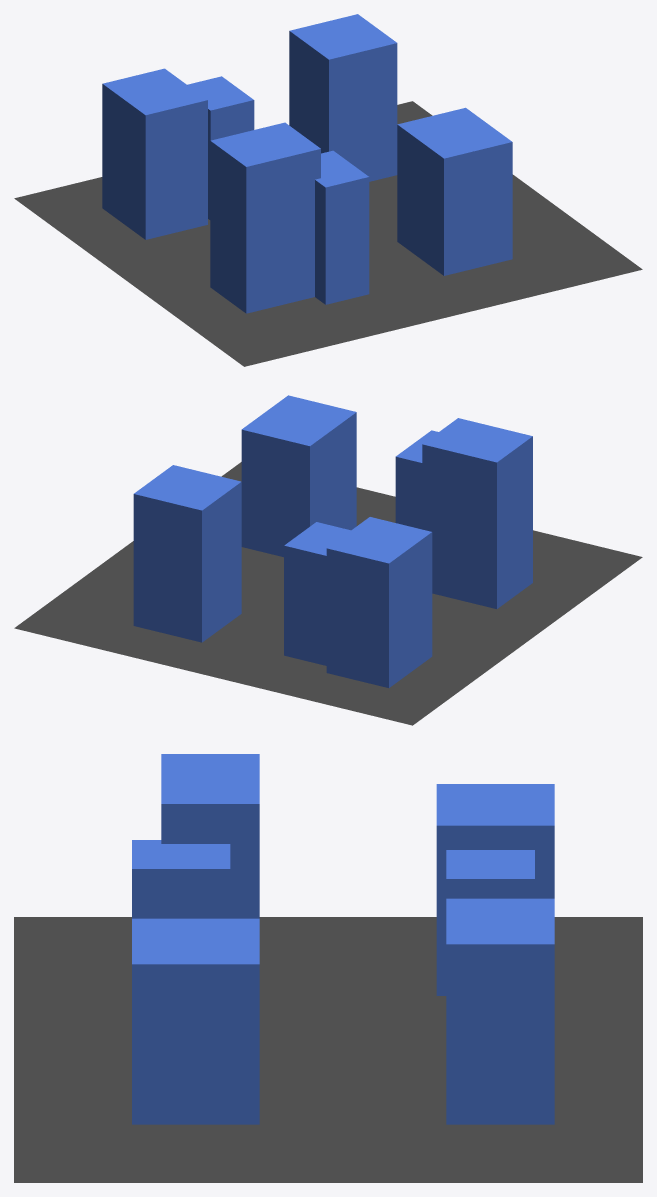
Rendered from native_baseline.glb.
3 views of the same model, one above another, from view 1: azimuth 30°, elevation 25°; view 2: azimuth 150°, elevation 25°; view 3: azimuth 270°, elevation 25° (orthographic). The views are drawn at different scales.
Bounding box in the file's own units: 64 × 23 × 64.
